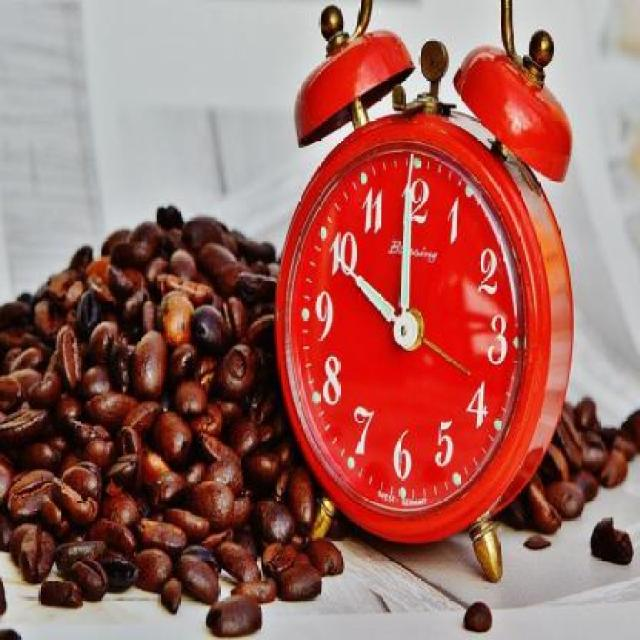clock: (308, 149, 511, 615)
